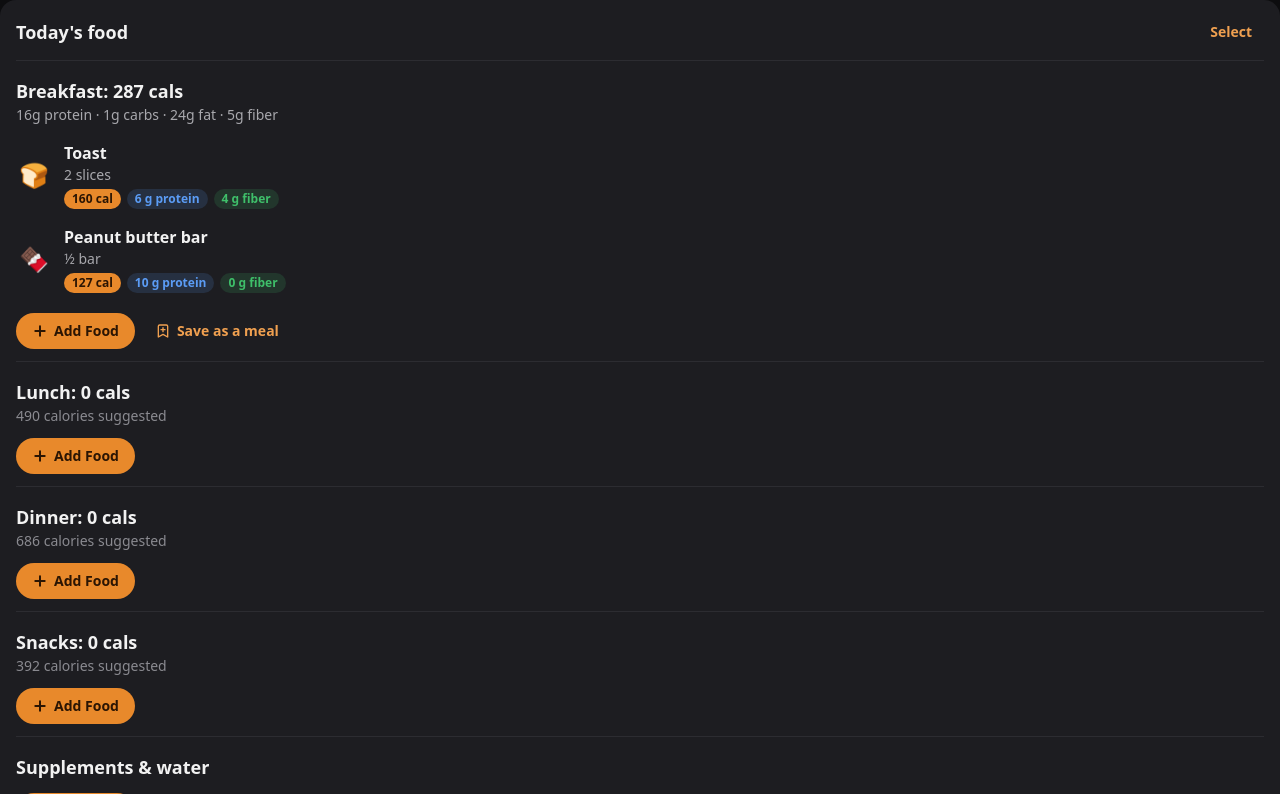
Food widget (everything the Log page did) › move an entry to tomorrow's lunch
This screenshot has width=1280, height=794.
Click the button "🍞 Toast 2 slices 160 cal 6 g protein 4 g fiber".
click(85, 153)  # box left=8, top=133, right=1272, bottom=217
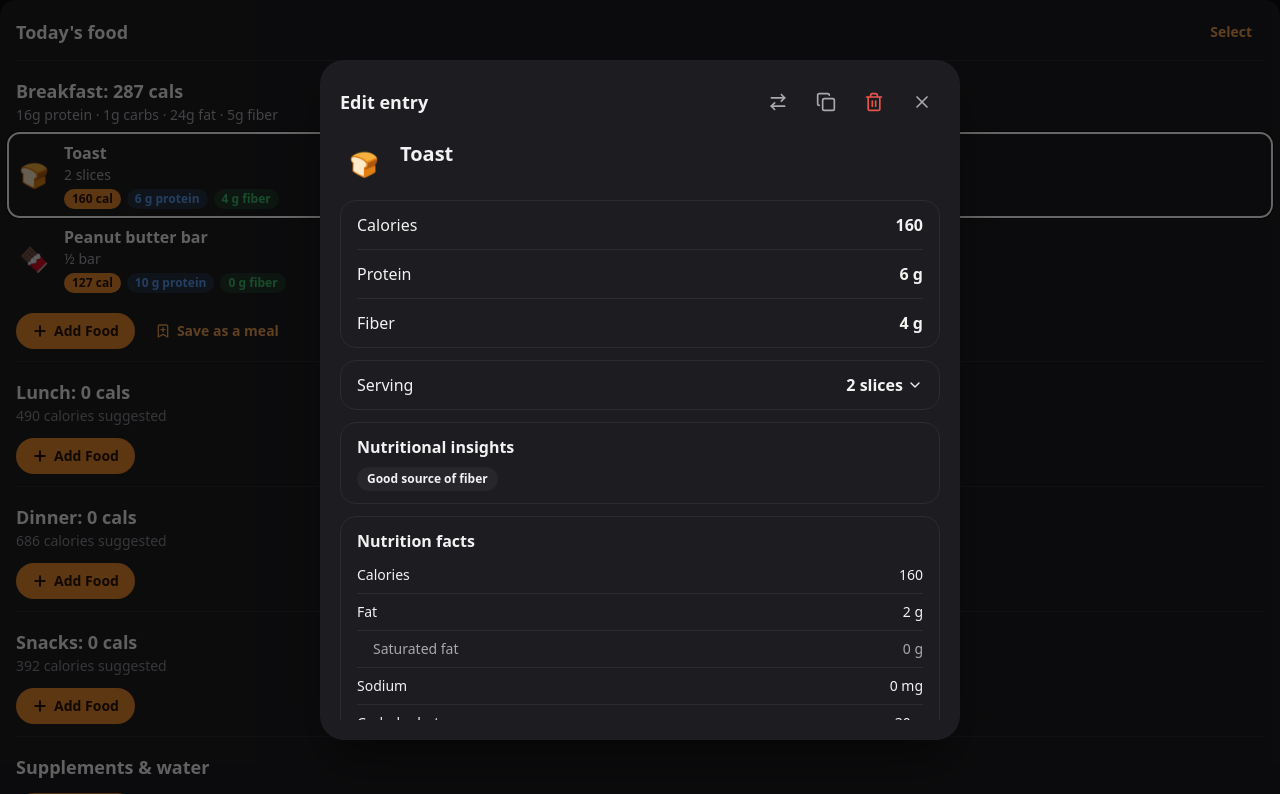
Click the button named "Move to another meal or day".
click(778, 102)  # box left=756, top=80, right=800, bottom=124
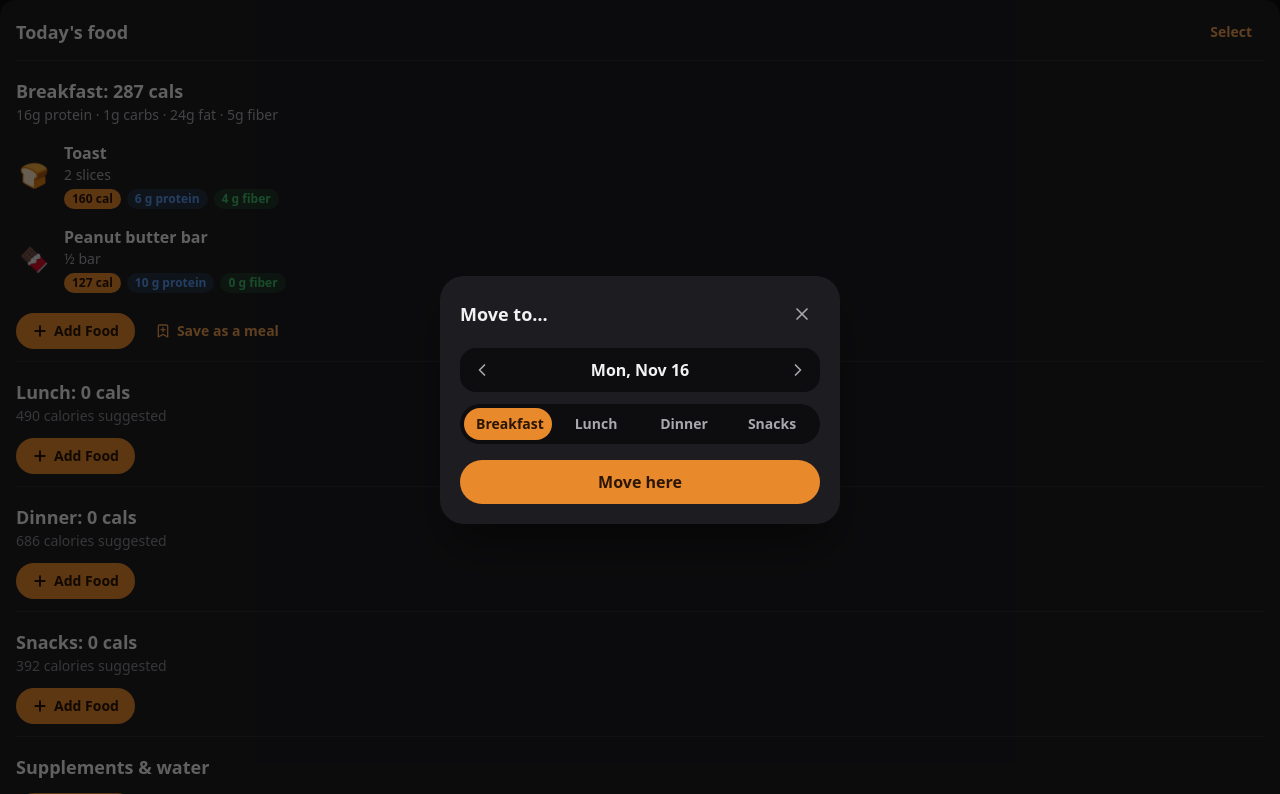
Click the button named "Later day".
click(798, 370)  # box left=780, top=352, right=816, bottom=388
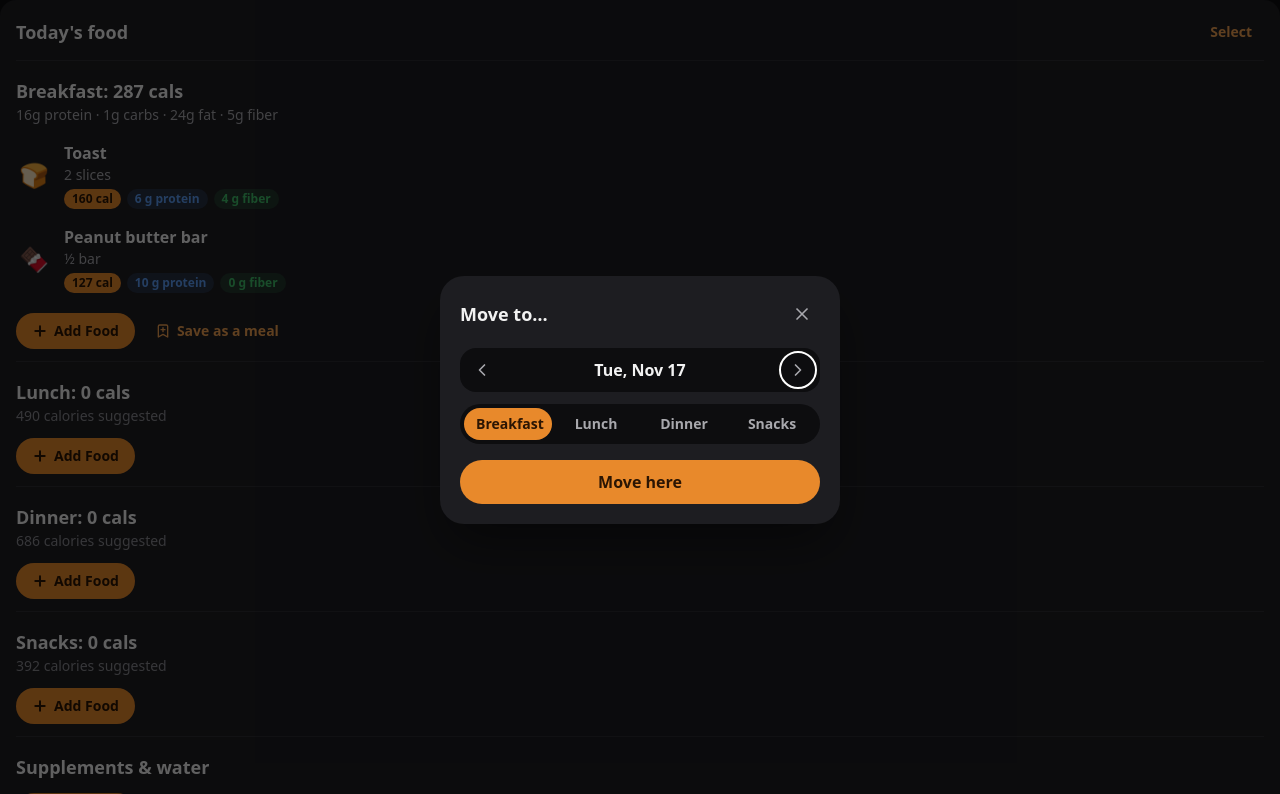
Click the radio button labelled "Lunch".
click(596, 424)  # box left=552, top=408, right=640, bottom=440
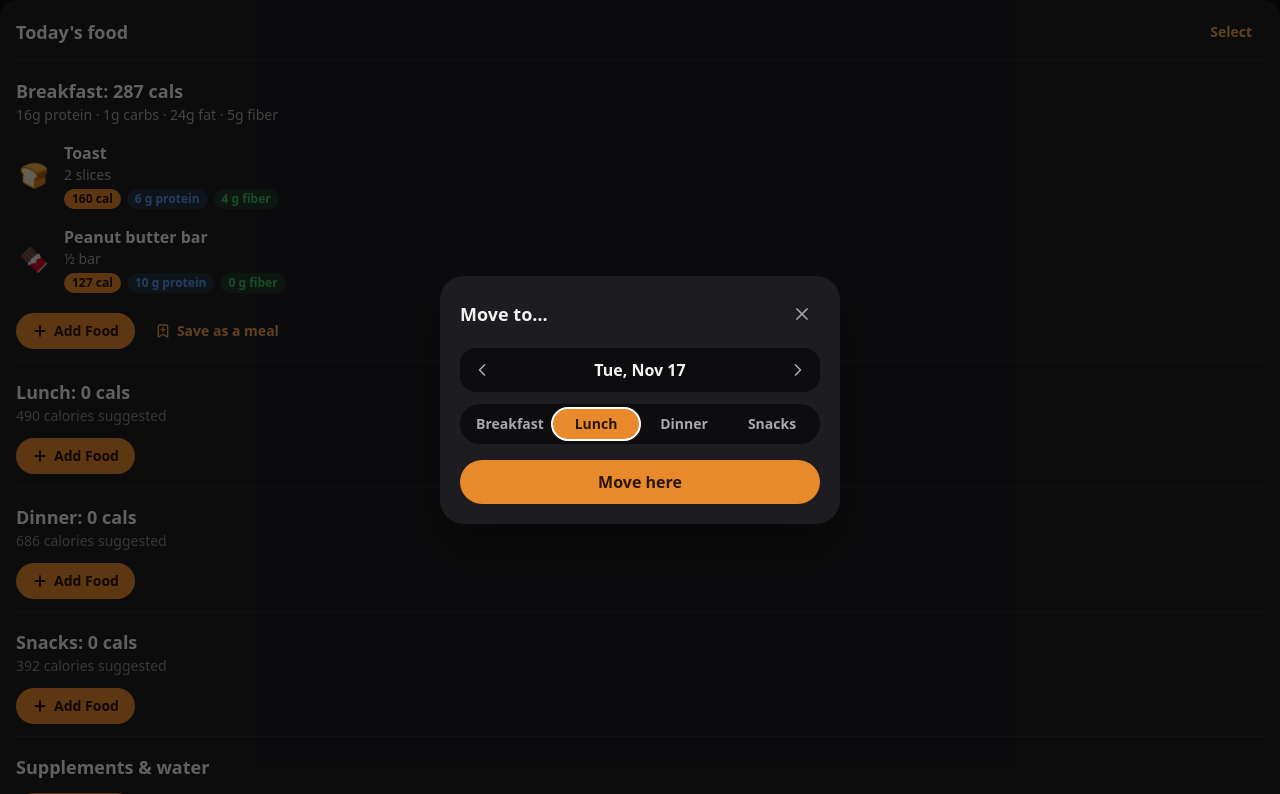
Click the button "Move here".
click(640, 482)  # box left=460, top=460, right=820, bottom=504
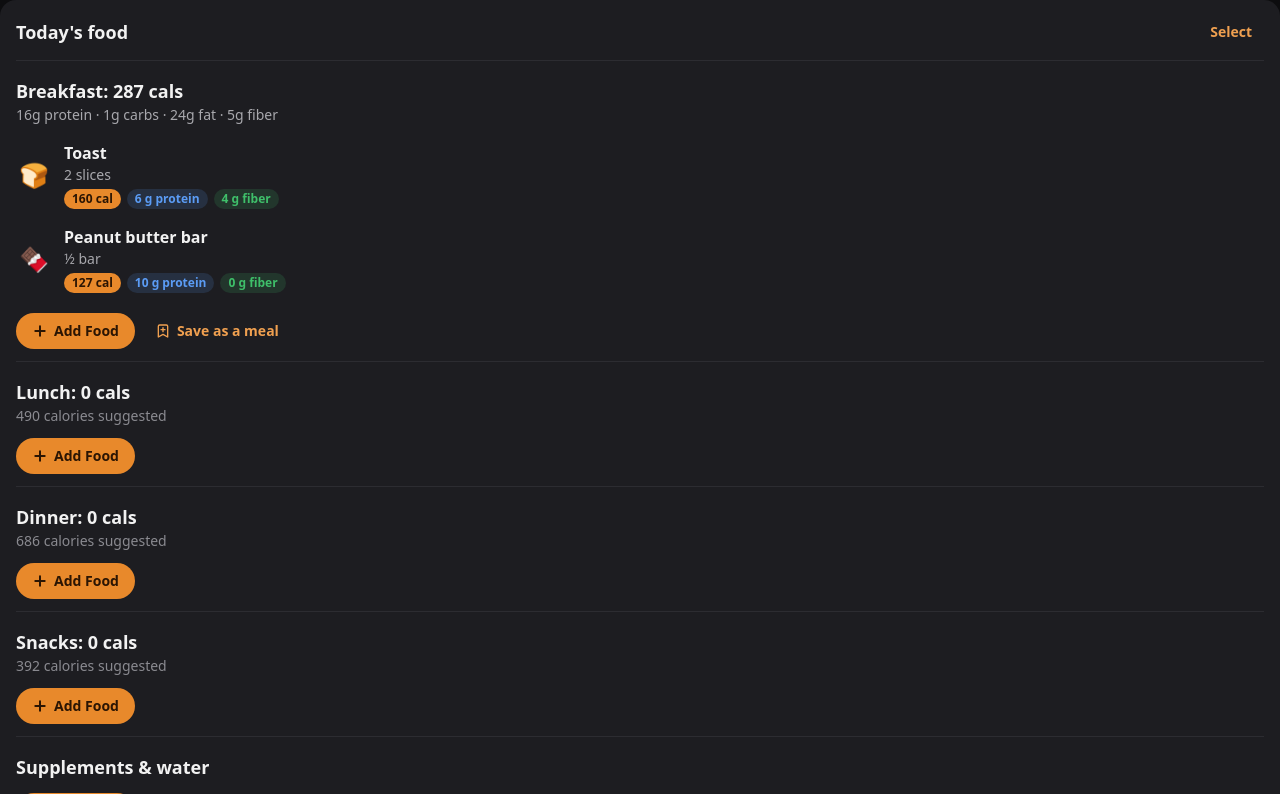
expect the dialog is gone: met
